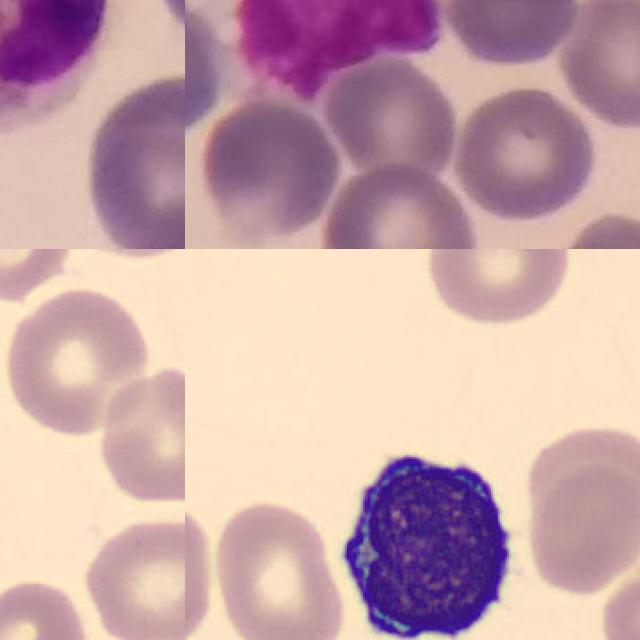Eosinophil: (0, 0, 109, 139)
Lymphocyte: (324, 432, 534, 640)
Monocyte: (187, 0, 502, 95)
RBC: (0, 282, 156, 441), (208, 496, 348, 640), (521, 443, 640, 600), (77, 511, 185, 640), (95, 363, 185, 508), (420, 249, 578, 330), (0, 573, 92, 640), (185, 492, 217, 640), (597, 534, 640, 640), (0, 249, 74, 305), (67, 249, 185, 263)
